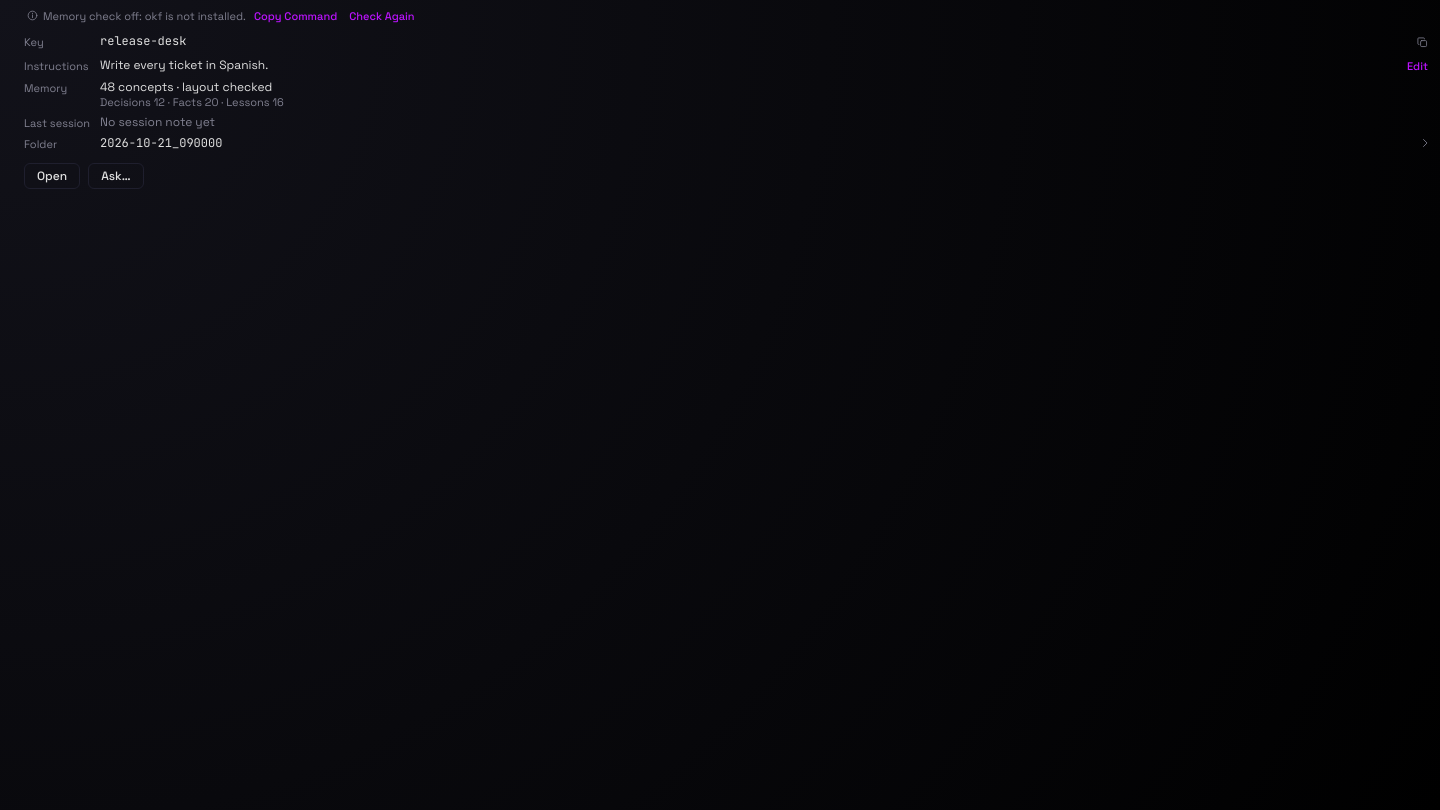
Test case: ManagerInspector › when okf is missing › re-reads the machine, then checks the memory again
Click the button "Check Again".
click(382, 16)  # box [345,6,419,26]
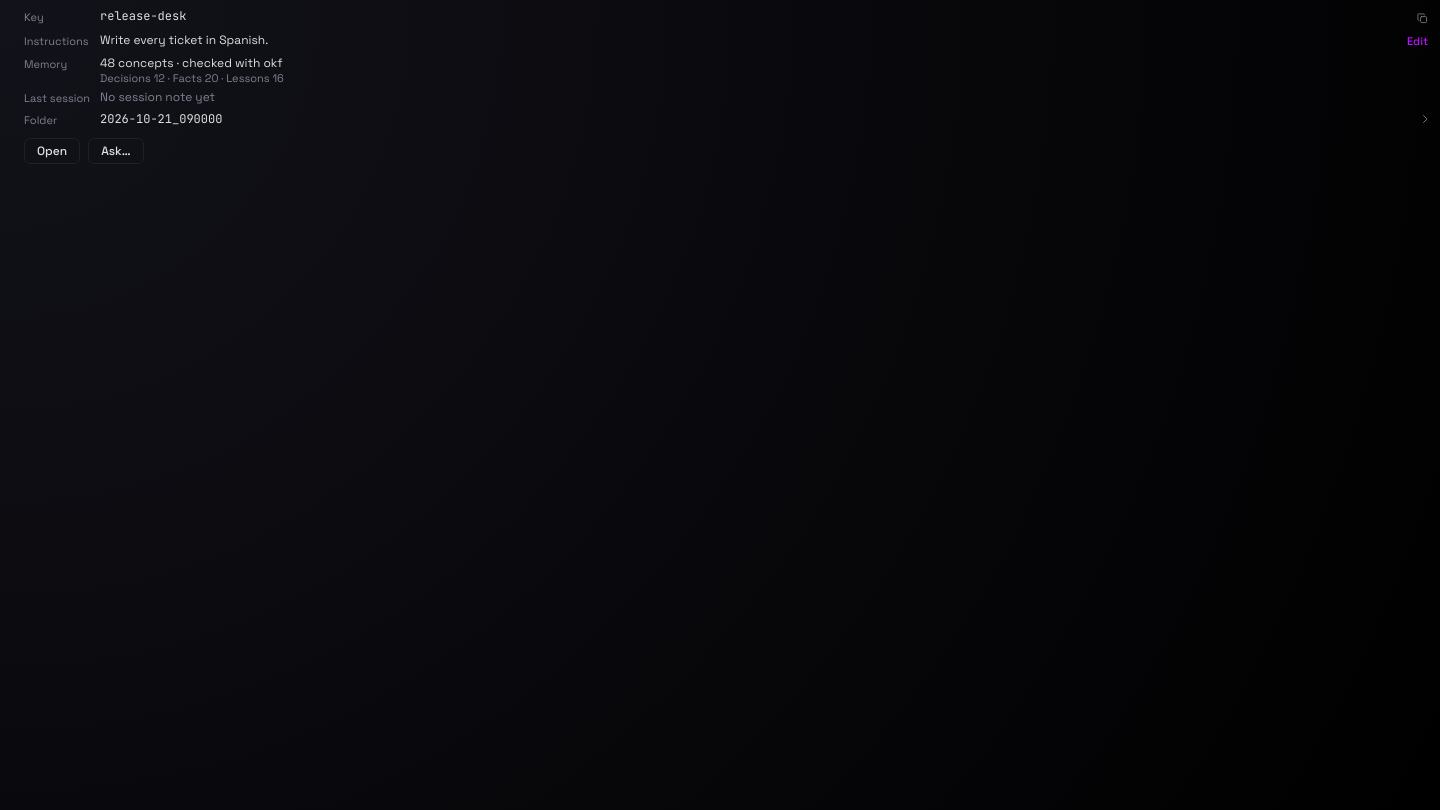
Check: the text "Memory check off" is gone
